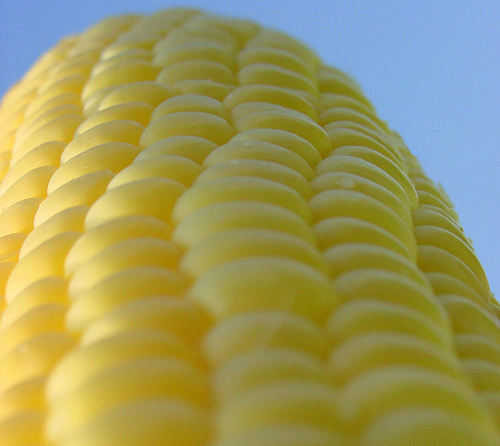corn: (0, 10, 497, 444)
